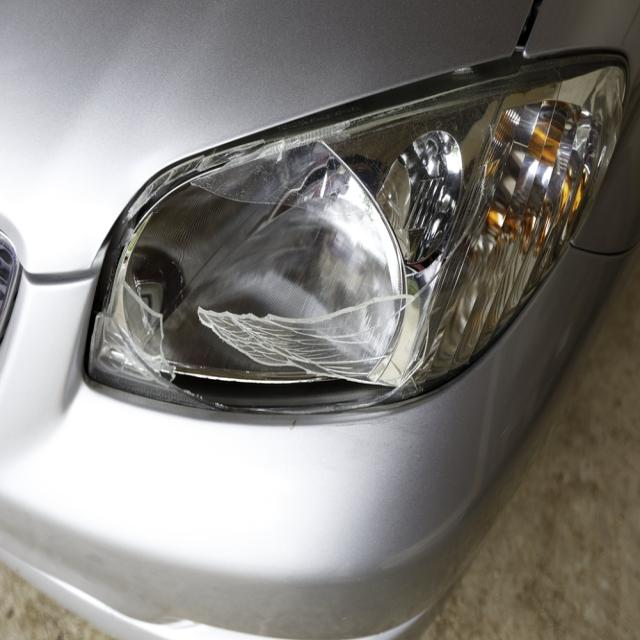lamp broken: (87, 60, 626, 418)
